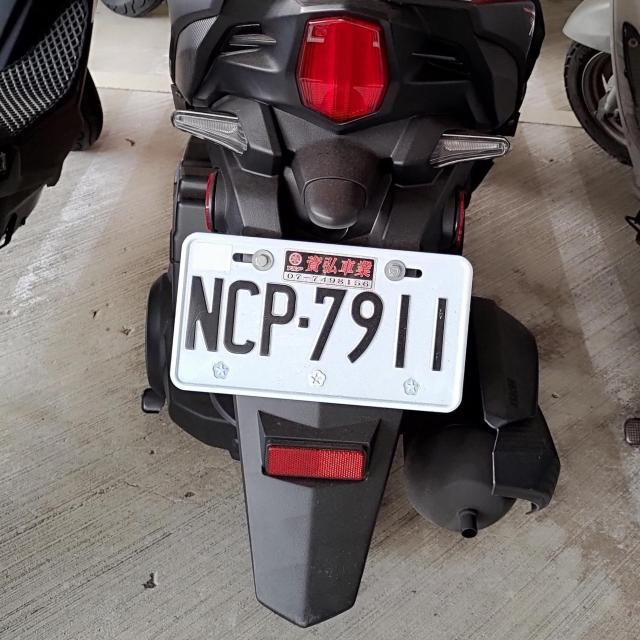W: (173, 232, 473, 410)
